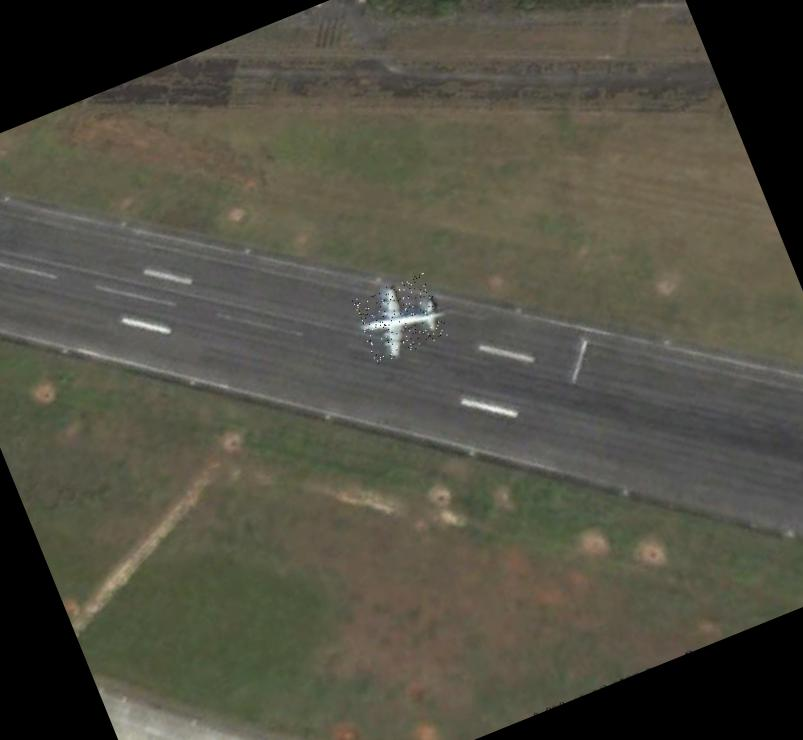A9: (350, 272, 450, 366)
